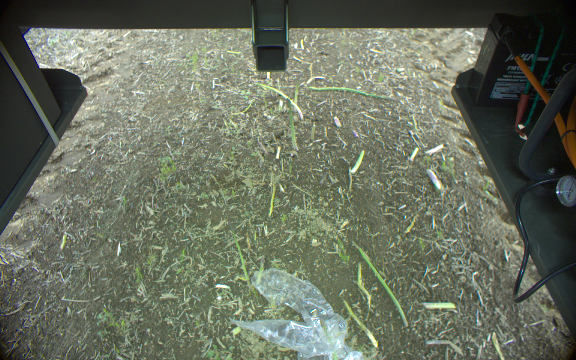aspa: (346, 236, 413, 331), (249, 79, 306, 122), (338, 297, 381, 353), (302, 82, 395, 105), (224, 217, 252, 292), (285, 97, 308, 154), (253, 254, 270, 294)
